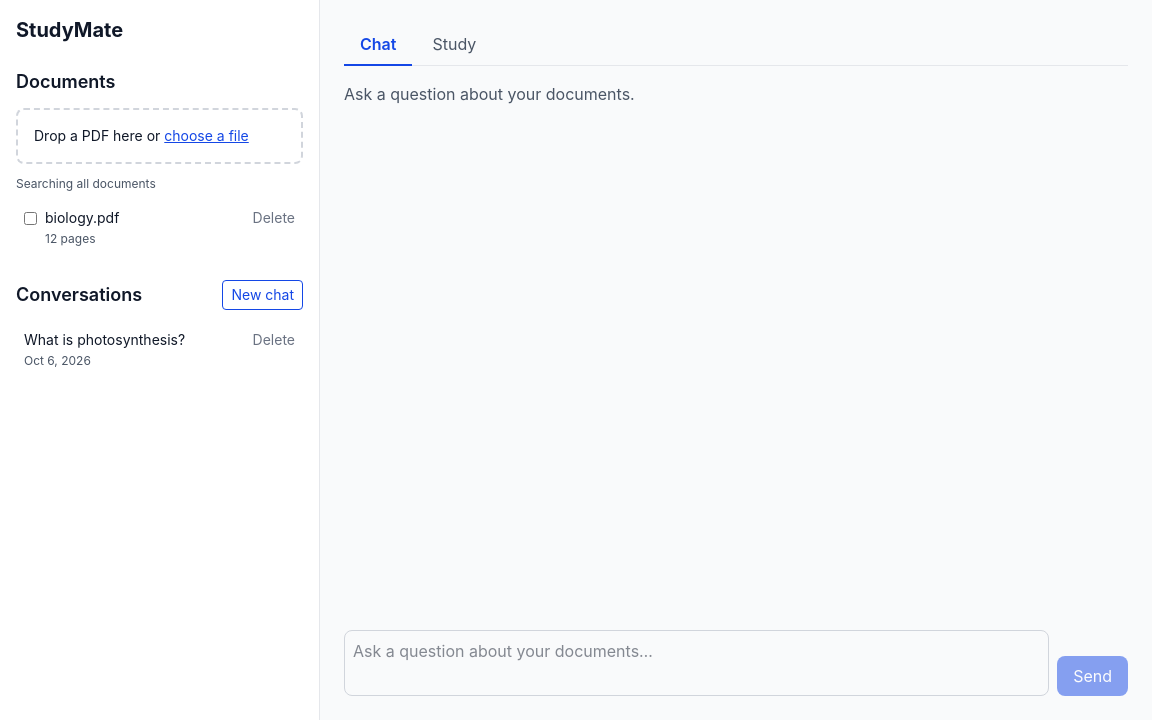
Test case: App › goes back to a new chat after deleting the open conversation
Click the button "What is photosynthesis? Oct 6, 2026" at (134, 350), box x1=24 y1=330 x2=245 y2=370
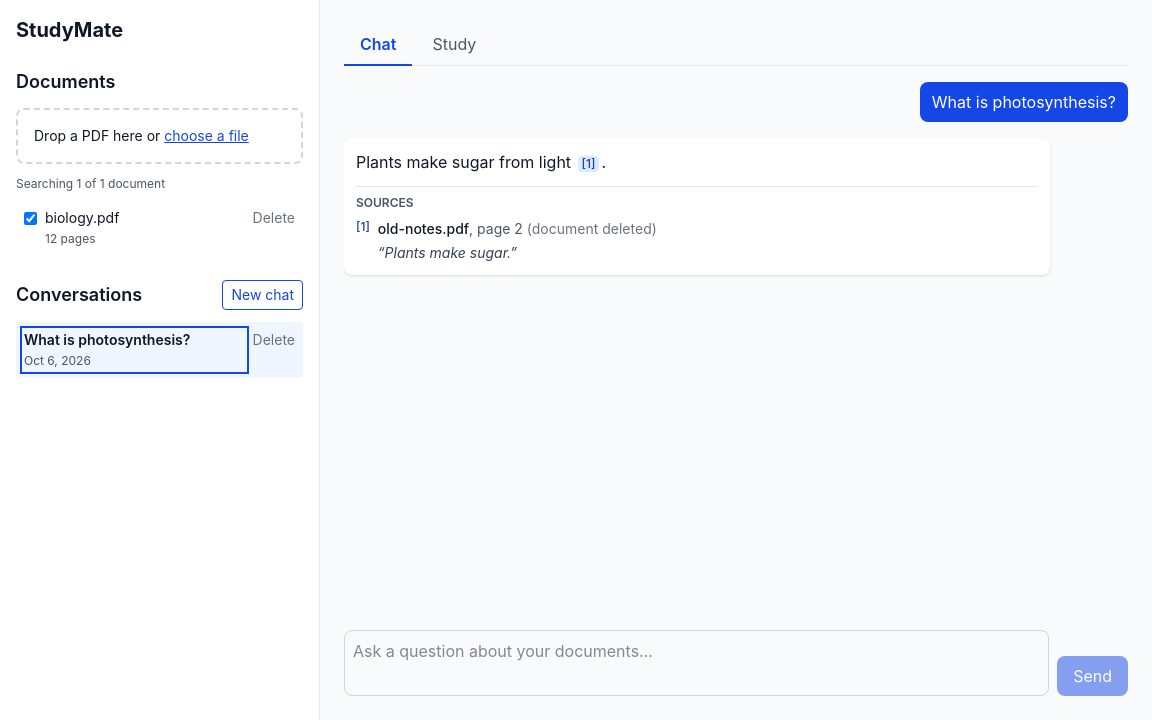
Check: the text "Plants make sugar from light" is shown, box x1=356 y1=152 x2=576 y2=172
Click the button with aria-label "Delete What is photosynthesis?" at (274, 340), box x1=253 y1=330 x2=295 y2=350
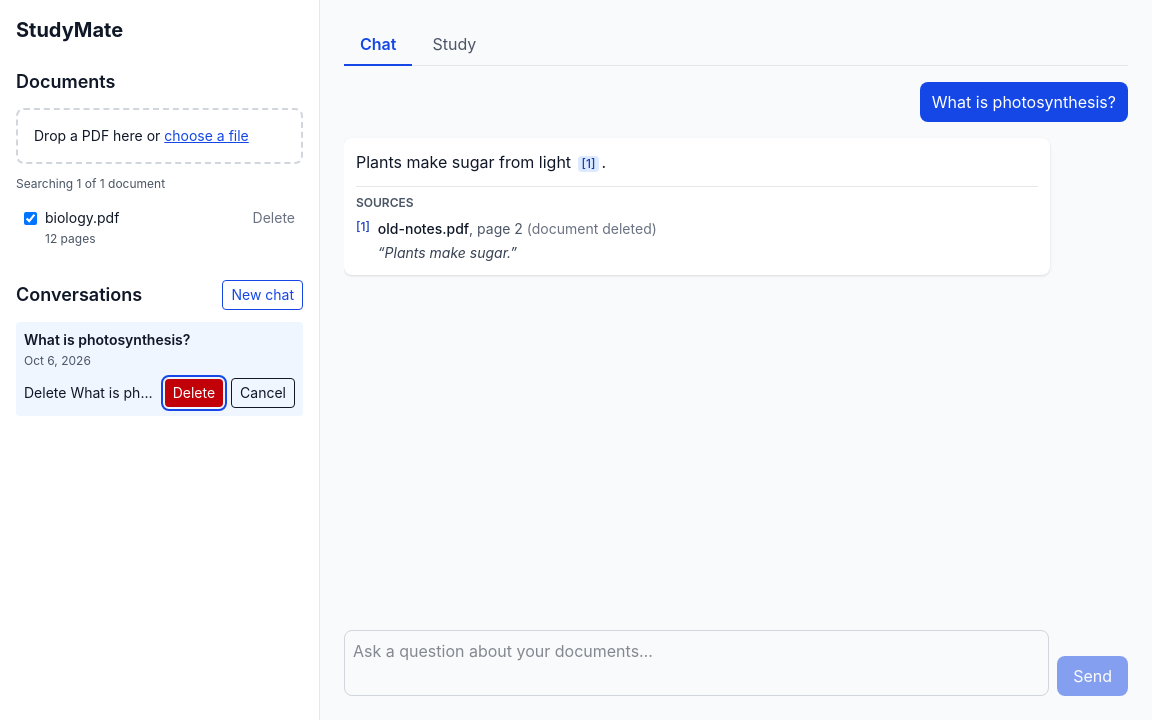
Click the button "Delete" below "Conversations" at (194, 393), box x1=165 y1=379 x2=223 y2=407
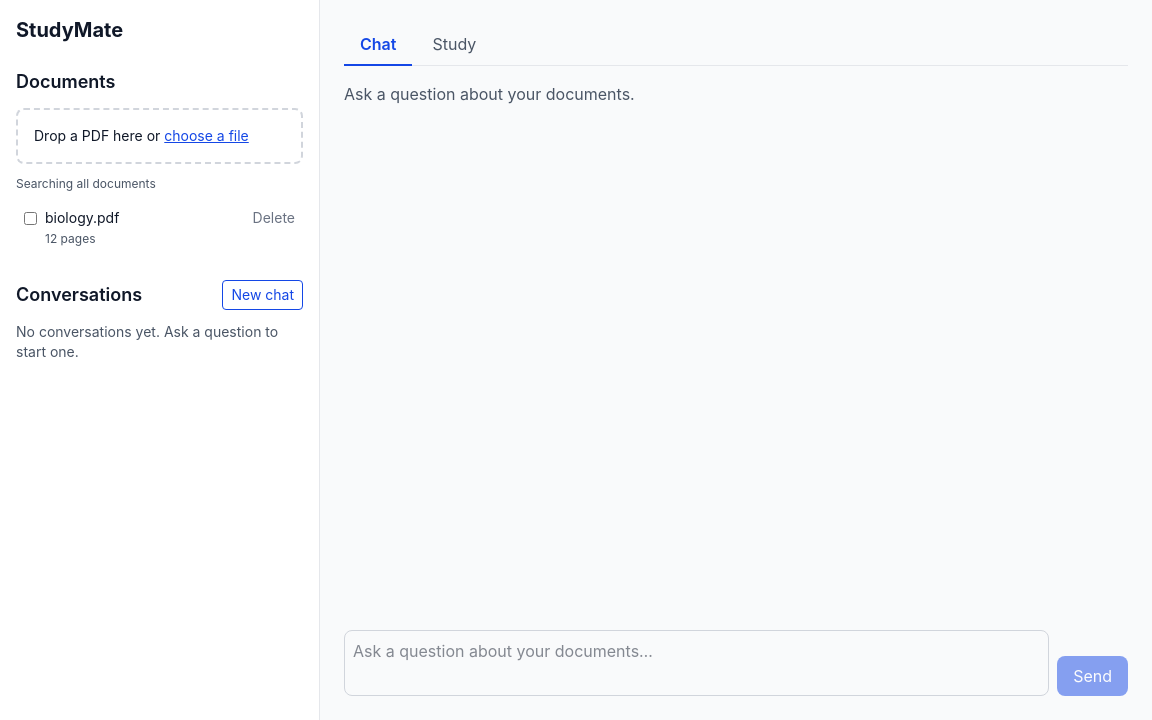
Check: the text "Ask a question about your documents." is shown, box x1=344 y1=84 x2=635 y2=104
Check: the text "No conversations yet. Ask a question to start one." is shown, box x1=16 y1=322 x2=303 y2=362
